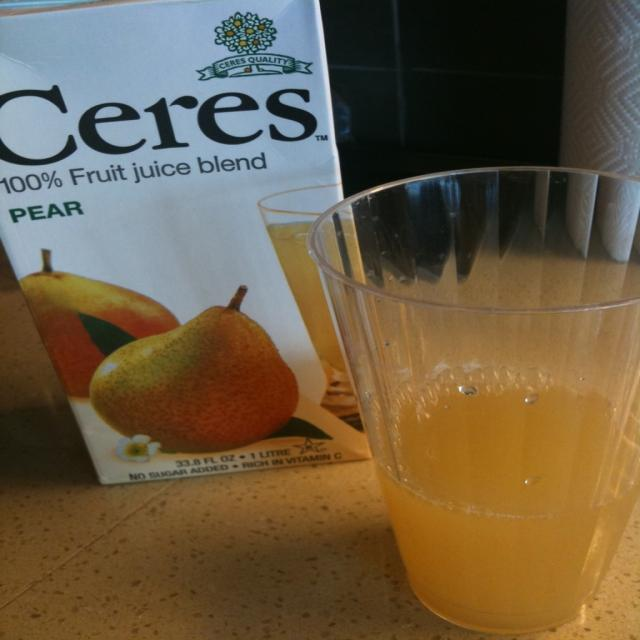Juice: (375, 358, 640, 638), (266, 213, 372, 383)
